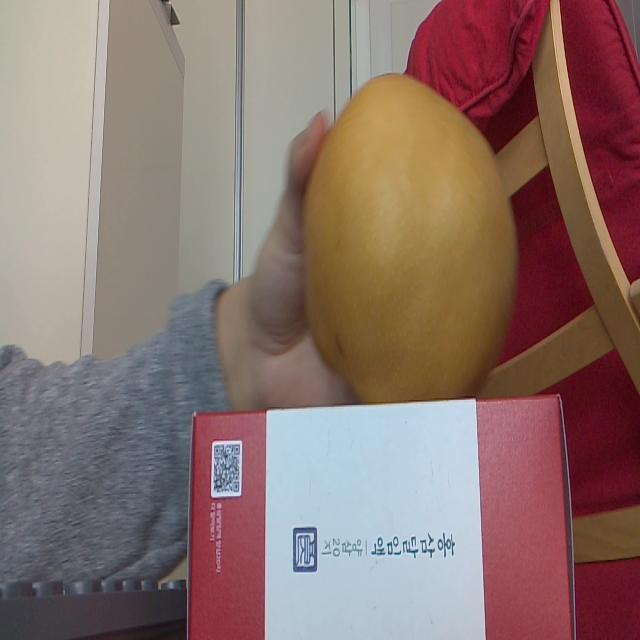pear: (300, 73, 518, 400)
